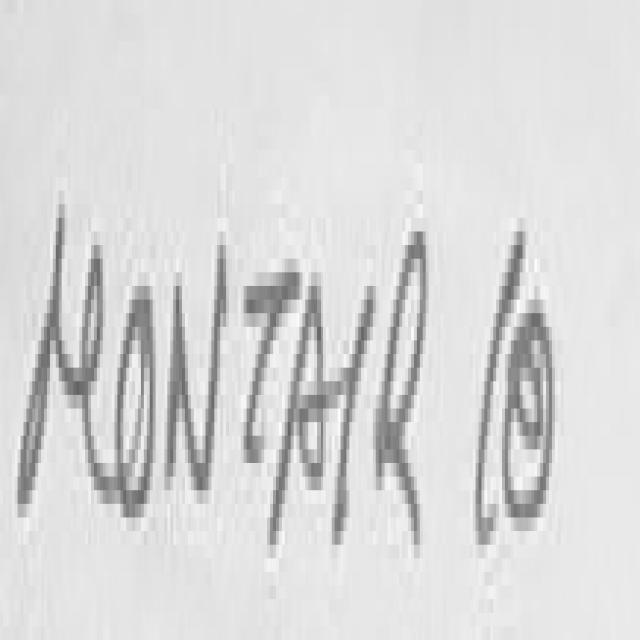0: (505, 313, 555, 517)
1: (479, 231, 526, 538)
A: (270, 286, 326, 543)
I: (335, 286, 376, 545)
M: (18, 218, 117, 517)
N: (167, 245, 226, 490)
O: (117, 286, 156, 517)
R: (376, 231, 429, 545)
T: (247, 272, 298, 463)
